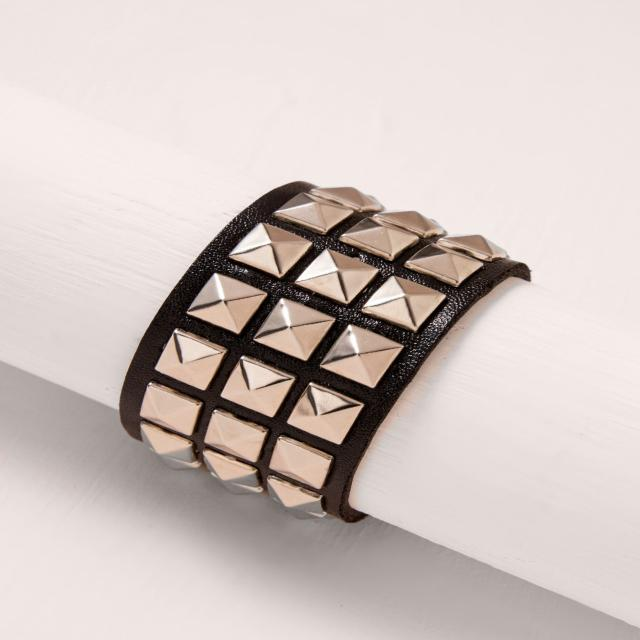bracelet: (31, 117, 562, 572)
